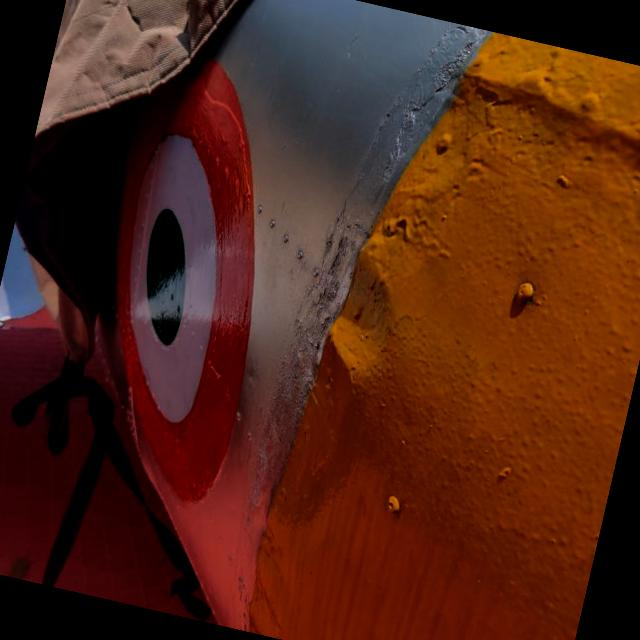dent: (320, 244, 420, 388)
